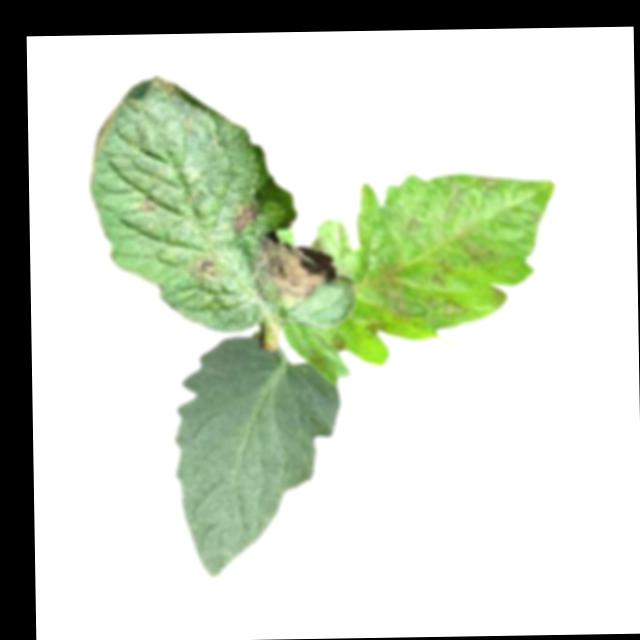Late_blight: (252, 225, 338, 309), (362, 255, 414, 339), (459, 229, 498, 268), (423, 293, 466, 320), (228, 200, 259, 231), (191, 257, 219, 282), (138, 196, 159, 212)
healthy: (172, 333, 344, 578)
